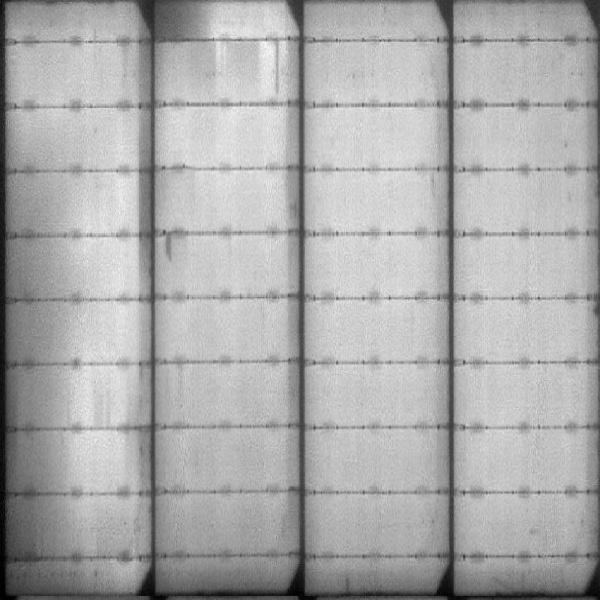scratch: (272, 42, 284, 94)
